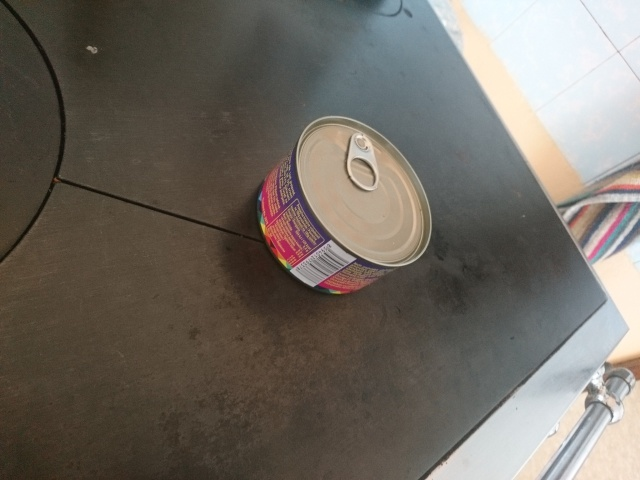Giana Tuna Salad Mexico 185g: (252, 113, 436, 298)
